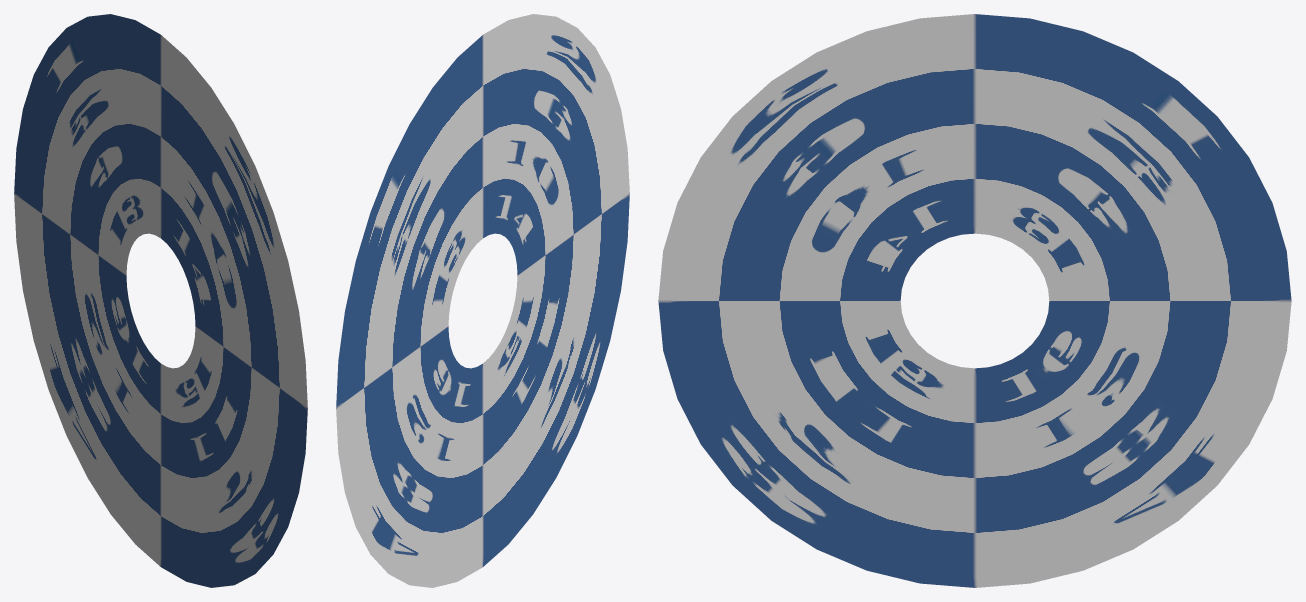
File: Ring1.fbx
The picture shows the model from 3 angles, left to right: view 1: azimuth 30°, elevation 25°; view 2: azimuth 150°, elevation 25°; view 3: azimuth 270°, elevation 25°; orthographic projection. The views are drawn at different scales.
Visible parts, largest first — view 1: SM_e_Cmn_Ring001; view 2: SM_e_Cmn_Ring001; view 3: SM_e_Cmn_Ring001.
Boxes of the visible parts, box(x1,y1,x2,y2) form: SM_e_Cmn_Ring001: box(14, 14, 307, 587); SM_e_Cmn_Ring001: box(336, 14, 629, 587); SM_e_Cmn_Ring001: box(658, 14, 1291, 587).
Bounding box in the file's own units: 1.61e-05 × 99.89 × 99.87.
